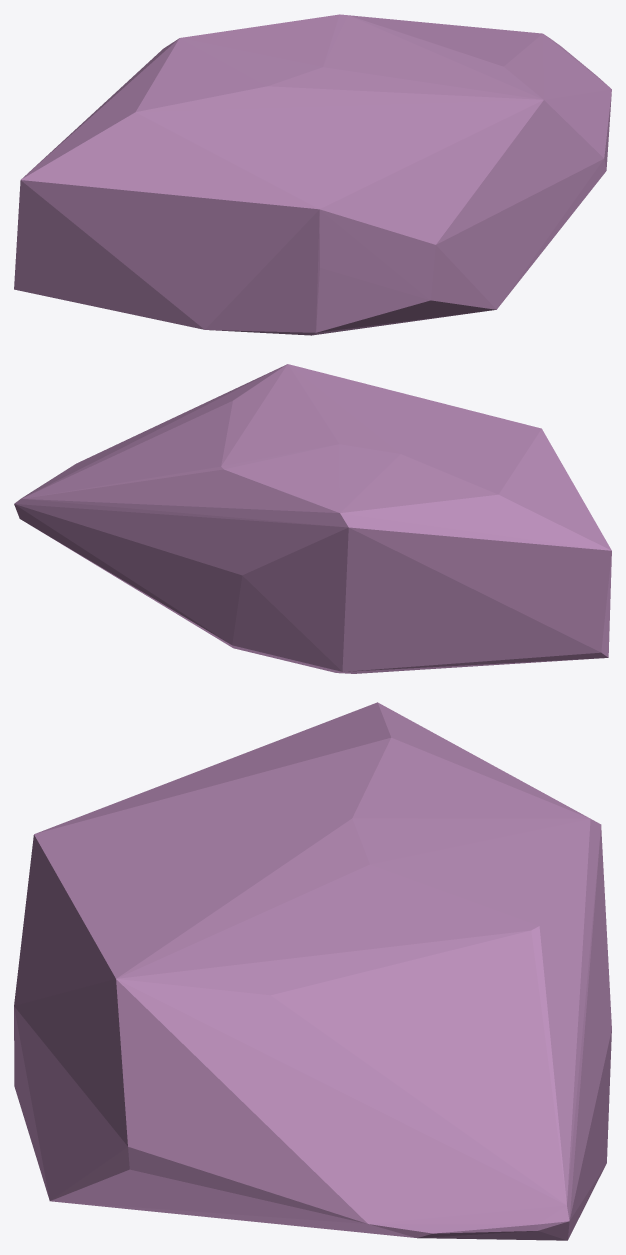
Rendered from equipment_airHoseReel_retractable_c01.glb.
The picture shows the model from 3 angles, top to bottom: view 1: azimuth 30°, elevation 25°; view 2: azimuth 150°, elevation 25°; view 3: azimuth 270°, elevation 25°; orthographic projection. The views are drawn at different scales.
Parts seen in each view (by area): view 1: geometry_0; view 2: geometry_0; view 3: geometry_0.
Part boxes in pixels (box(x1,y1,x2,y2)): geometry_0: box(14, 14, 611, 335); geometry_0: box(14, 364, 611, 673); geometry_0: box(14, 702, 611, 1240).
Bounding box in the file's own units: 0.4791 × 0.1453 × 0.2696.
